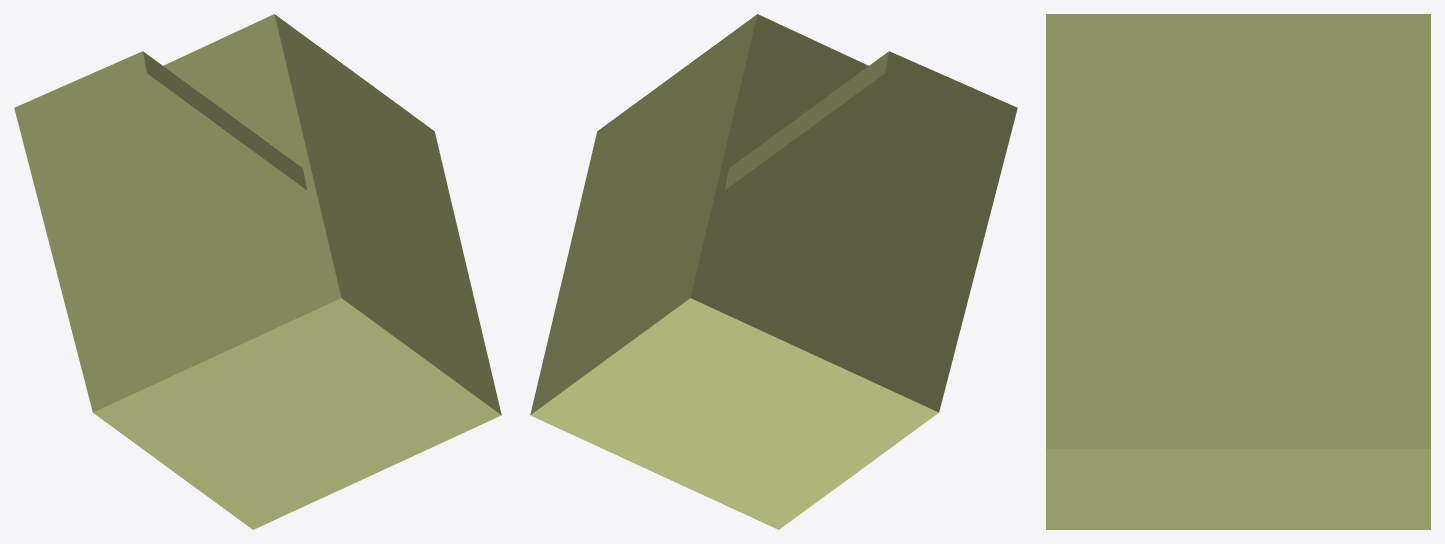
3 renders of one model, left to right at view 1: azimuth 30°, elevation 25°; view 2: azimuth 150°, elevation 25°; view 3: azimuth 270°, elevation 25°, orthographic. The views are drawn at different scales.
Parts seen in each view (by area): view 1: 0_1_0_2_1_3_2_0_0_3_0; view 2: 0_1_0_2_1_3_2_0_0_3_0; view 3: 0_1_0_2_1_3_2_0_0_3_0.
Boxes of the visible parts, <box> form: 0_1_0_2_1_3_2_0_0_3_0: <box>14,14,501,529</box>; 0_1_0_2_1_3_2_0_0_3_0: <box>530,14,1017,529</box>; 0_1_0_2_1_3_2_0_0_3_0: <box>1046,14,1430,529</box>.
Size of the model in its own units: 10.61 by 10.98 by 9.
